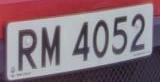0: (91, 14, 112, 64)
2: (129, 11, 149, 57)
4: (70, 16, 93, 69)
5: (111, 12, 131, 61)
M: (40, 22, 66, 73)
R: (16, 25, 41, 76)
